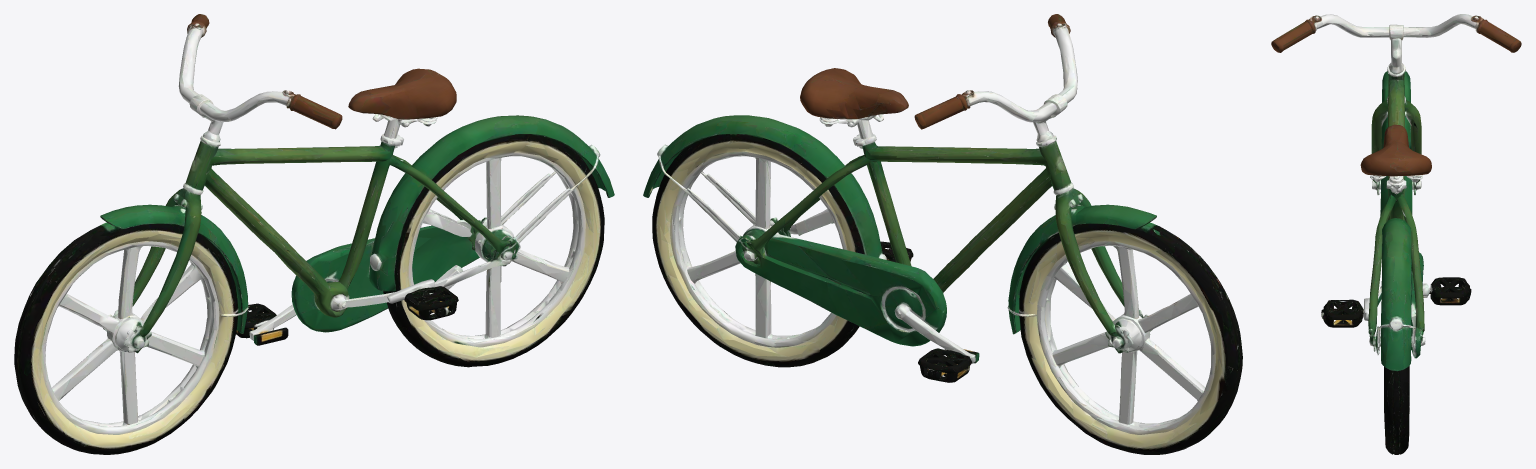
File: upm_muz17wjs31l.glb
3 views of the same model, side by side, from view 1: azimuth 30°, elevation 25°; view 2: azimuth 150°, elevation 25°; view 3: azimuth 270°, elevation 25° (orthographic). The views are drawn at different scales.
Size of the model in its own units: 1.9 by 1.12 by 0.7928.
1 material, 1 textured.
